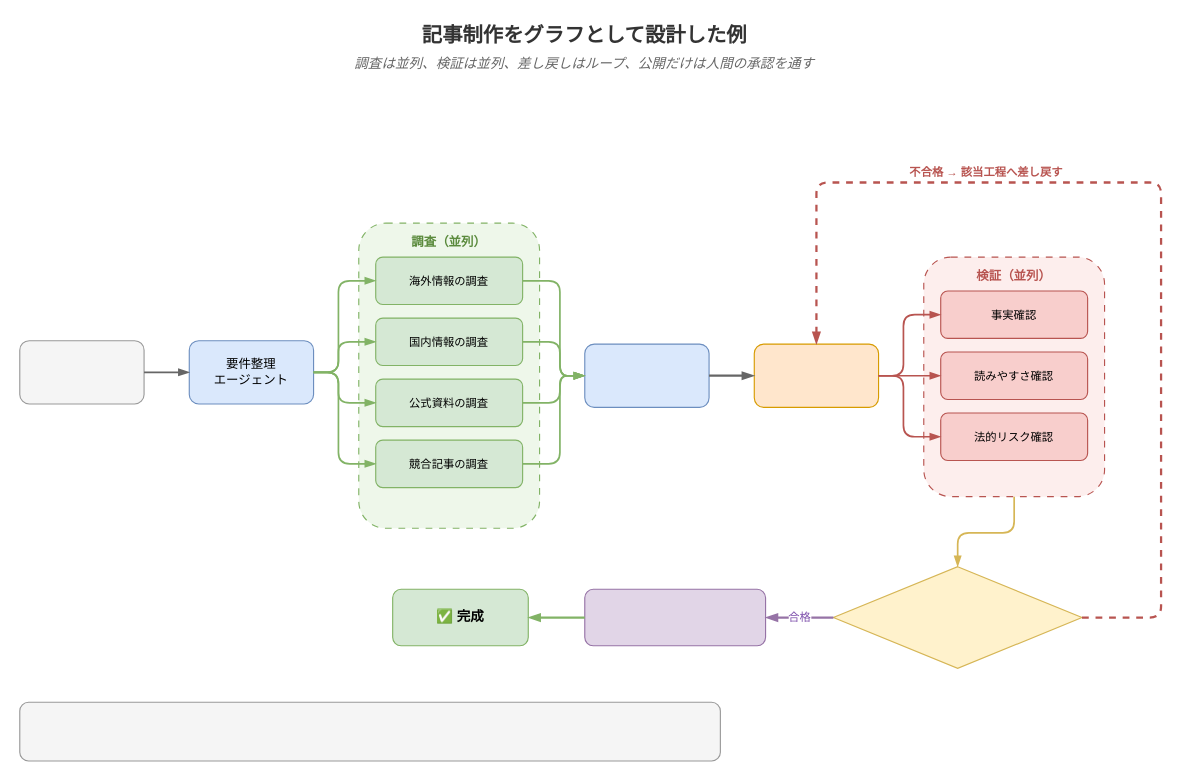
Image size: 1191x781. Some labels were removed from this diagram. Each missing label, with the centre of its shape:
依頼 （スペック）: [81,372]
停止条件を満たしたか （必須項目に全合格／最大3回）: [957,617]
執筆 エージェント: [816,375]
情報統合 エージェント: [646,375]
確実性が必要な場所（公開・削除・請求）は経路を固定して人間の承認を通す。 正解が一つでない場所（調査方法・文章表現）はエージェントに裁量を渡す。: [369,731]
👤 人間が最終承認 （公開・送信・削除）: [675,617]
